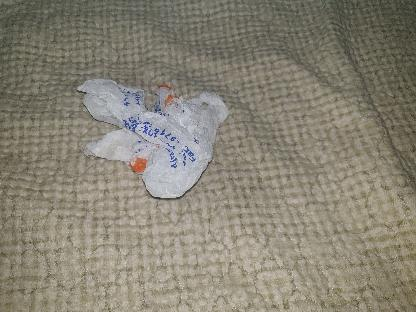Plastic Bag: (79, 79, 228, 199)
